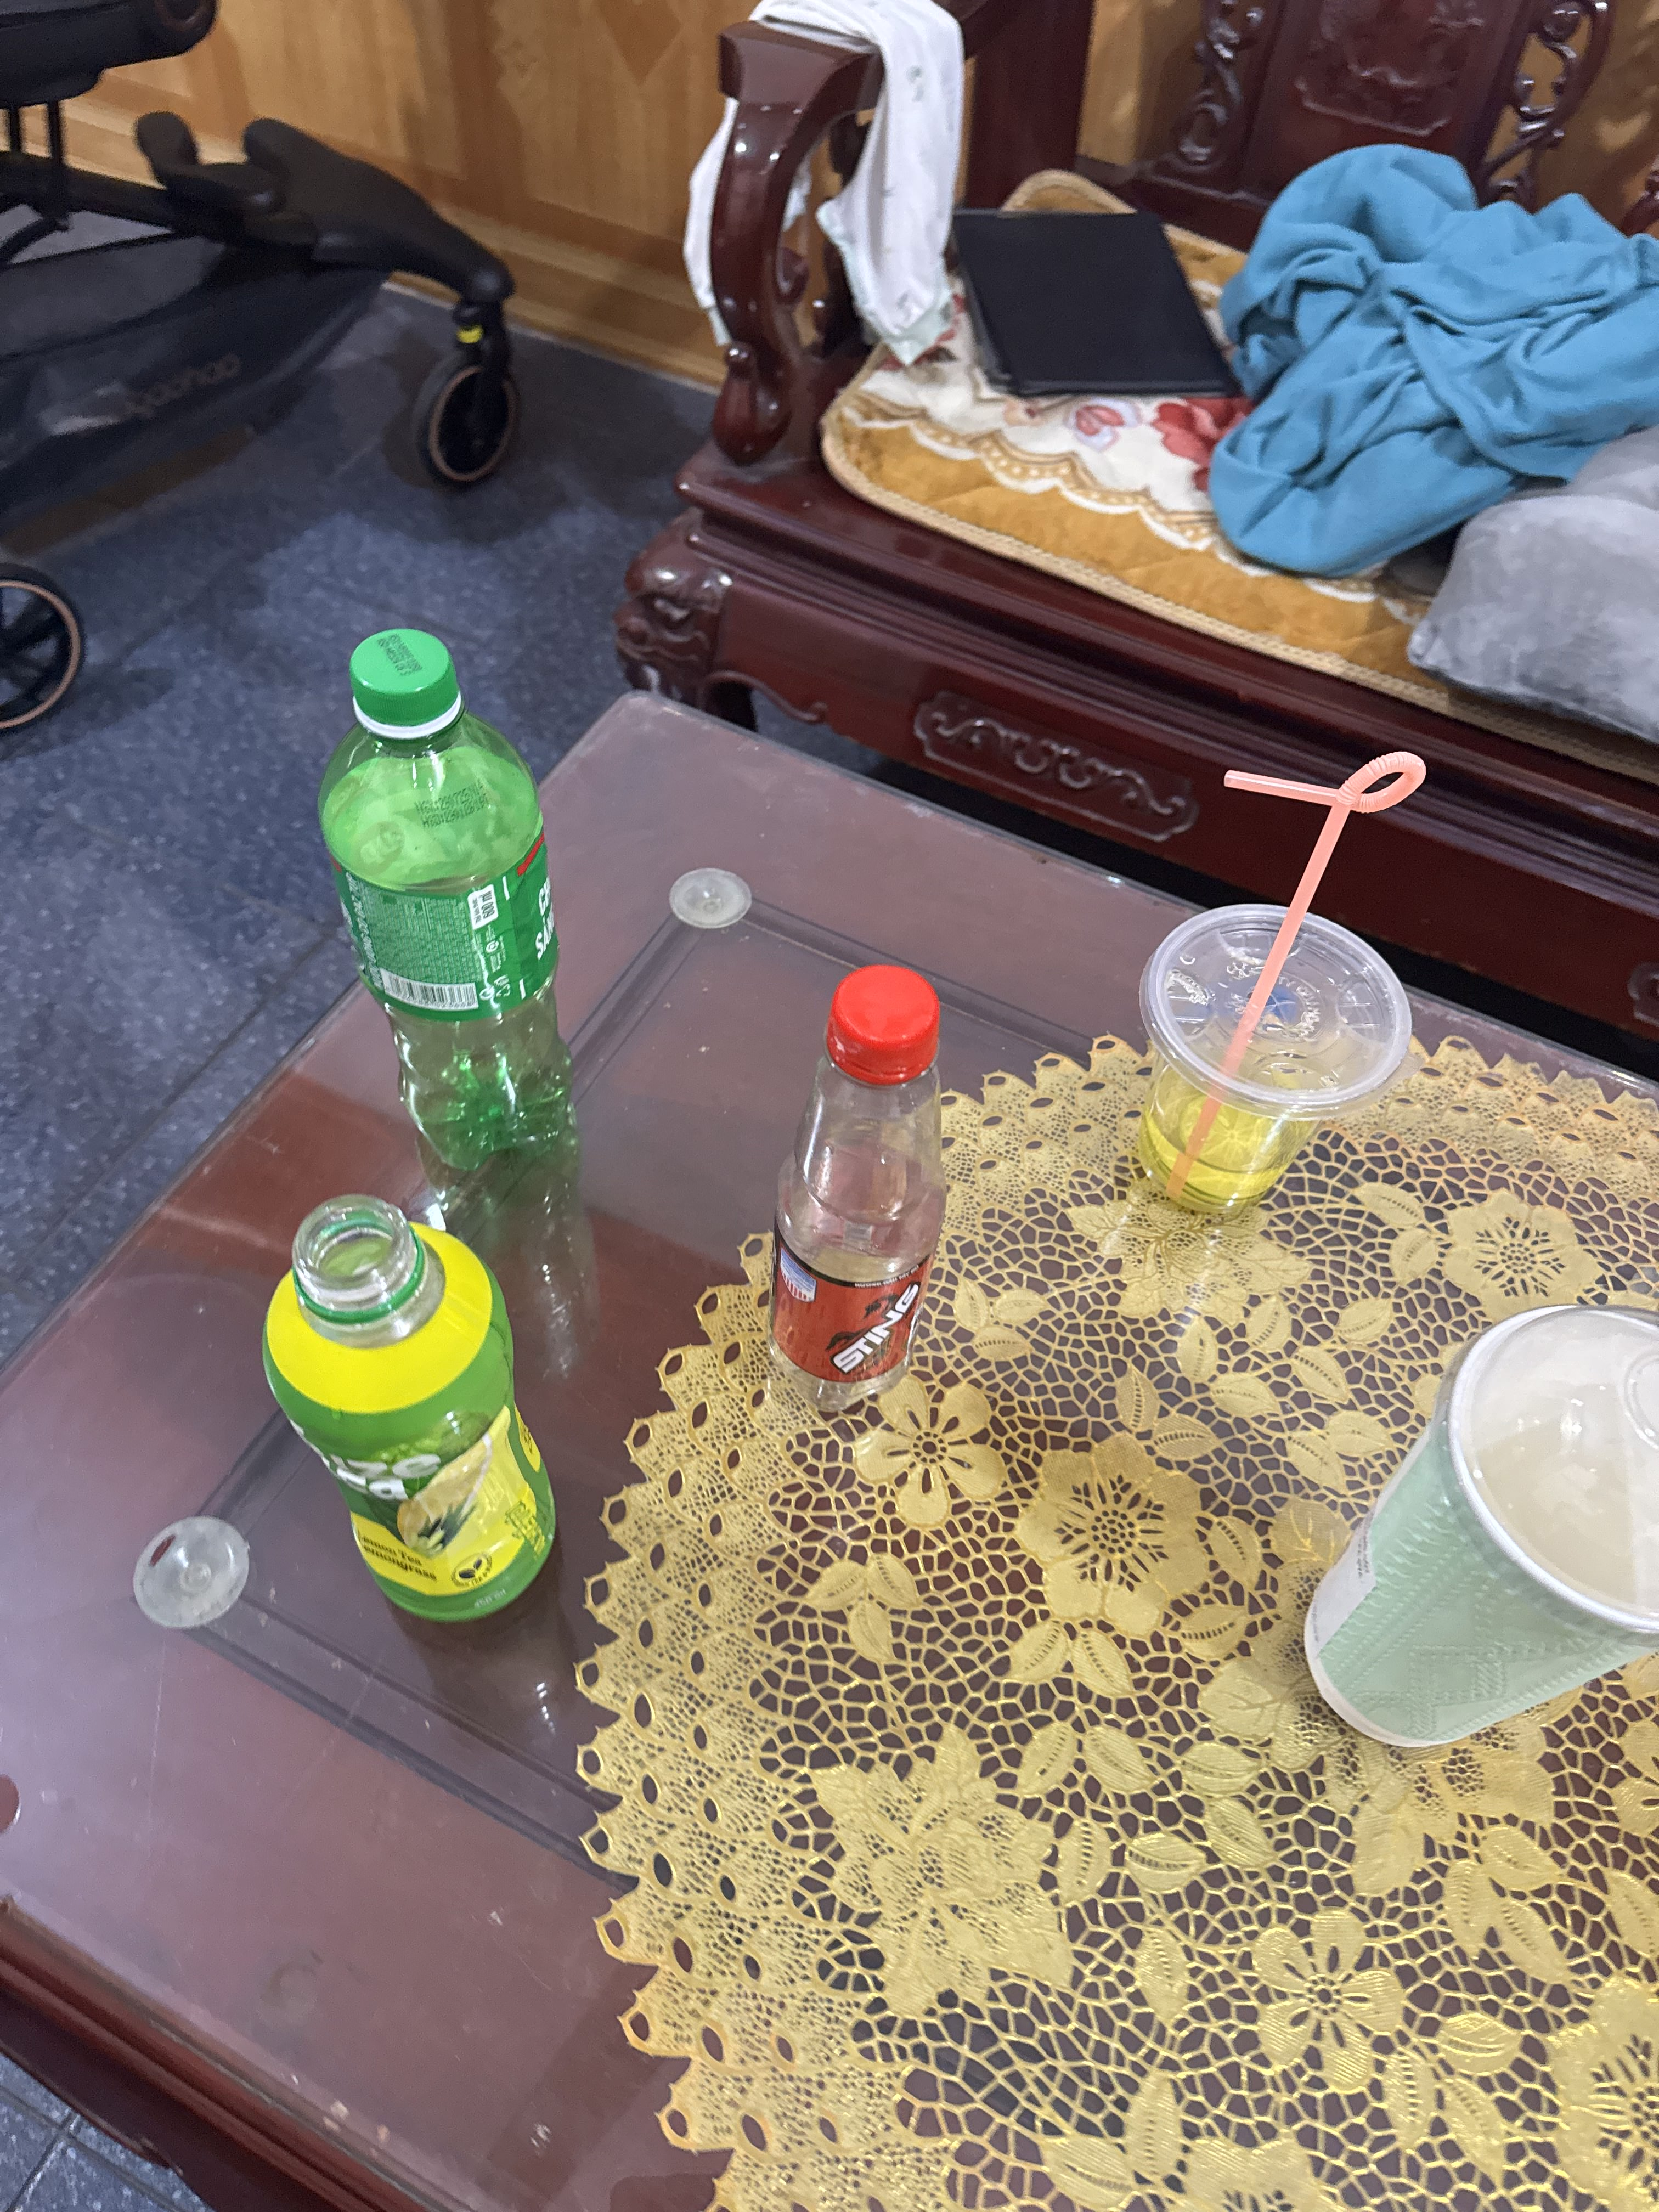2: (1269, 1231, 1659, 1888), (1101, 852, 1450, 1258)
bottle: (279, 603, 650, 1191), (225, 1163, 655, 1635), (744, 937, 983, 1439)
